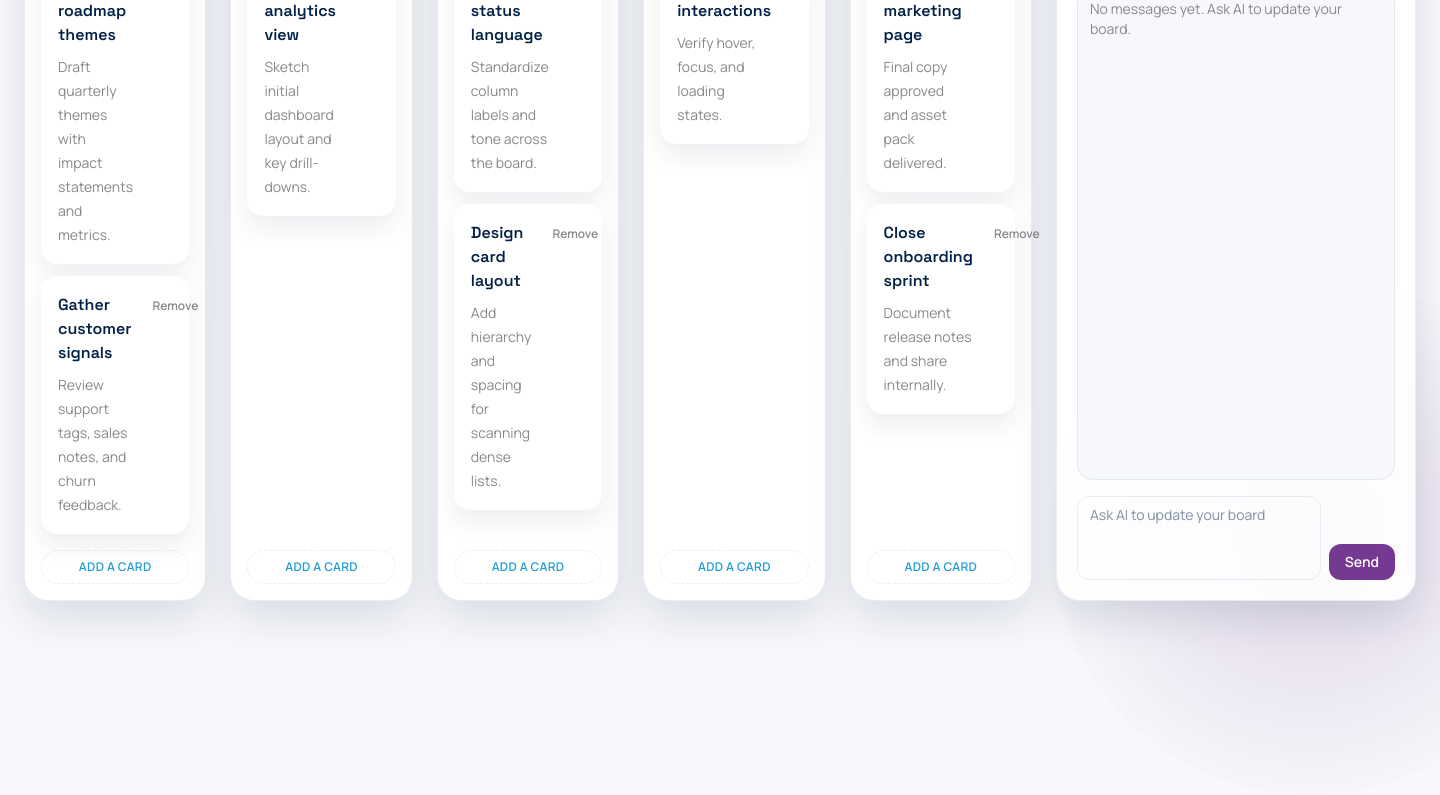
Test case: KanbanBoard › sends chat message and renders assistant reply
(page scrolled)
In the text box with placeholder "Ask AI to update your board": (1199, 538) [1077,496,1321,580], type "What should I focus on next?"
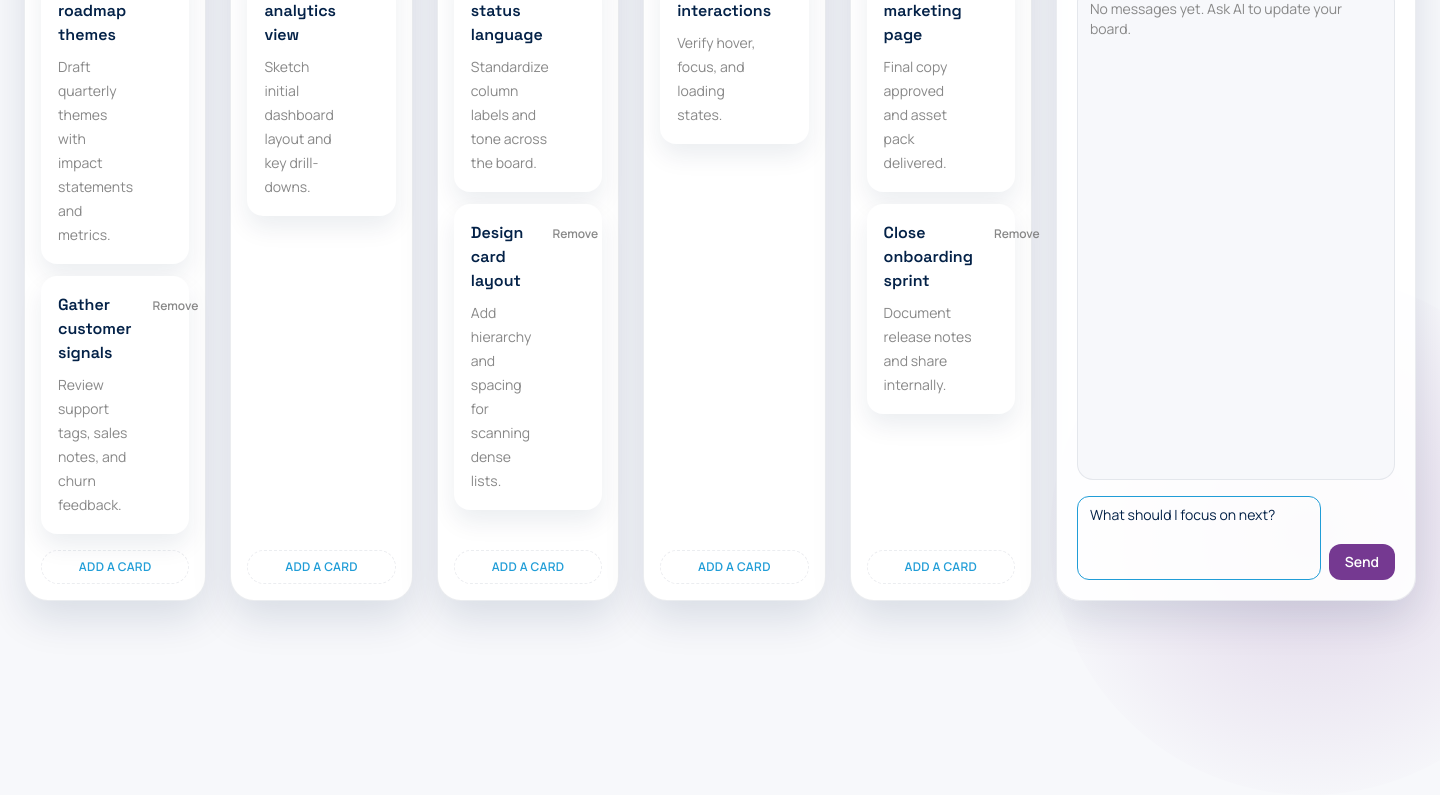
Click the button "Send": (1362, 562) [1329,544,1395,580]
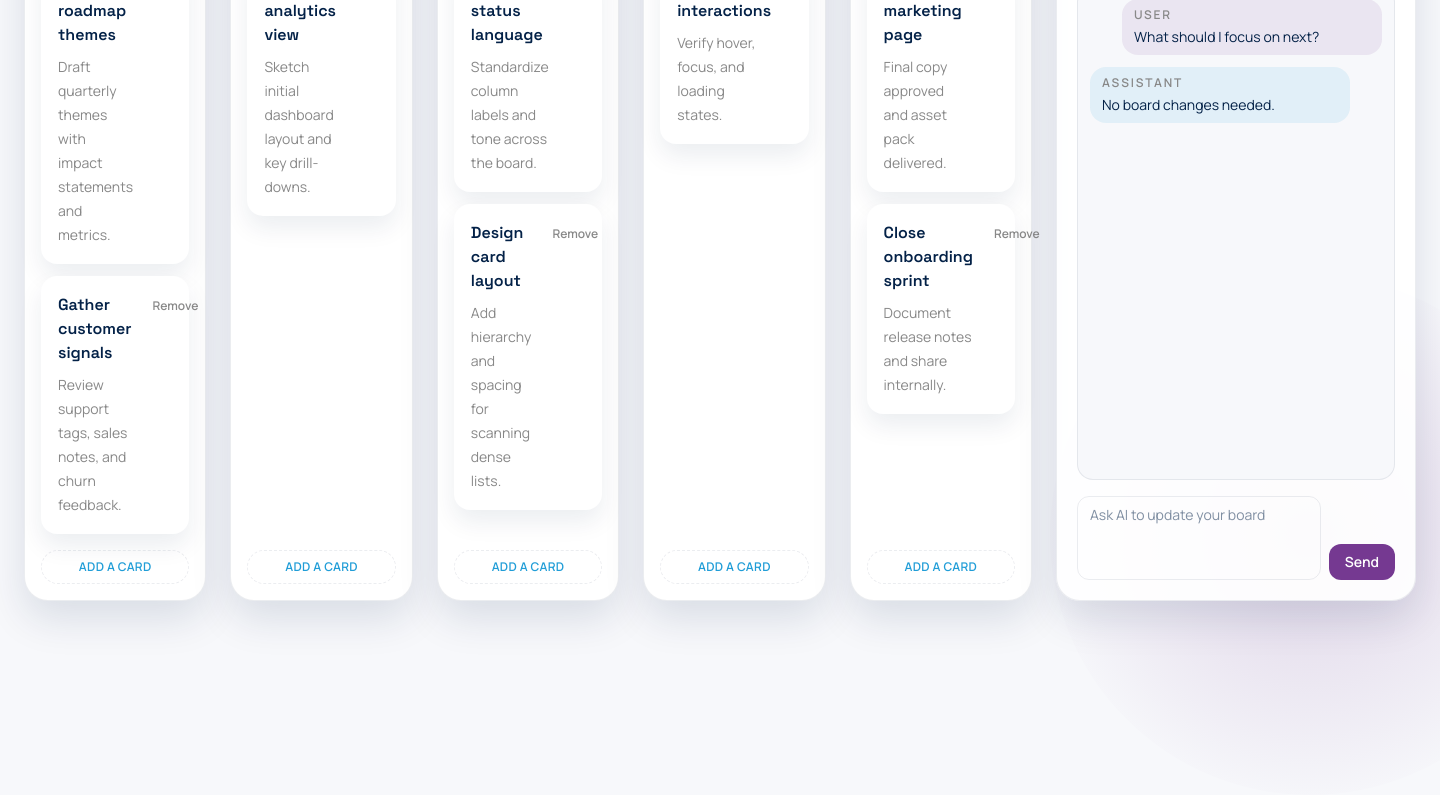
Check: the text "What should I focus on next?" is shown, box [1134,27,1319,46]
Check: the text "No board changes needed." is shown, box [1102,95,1275,114]
